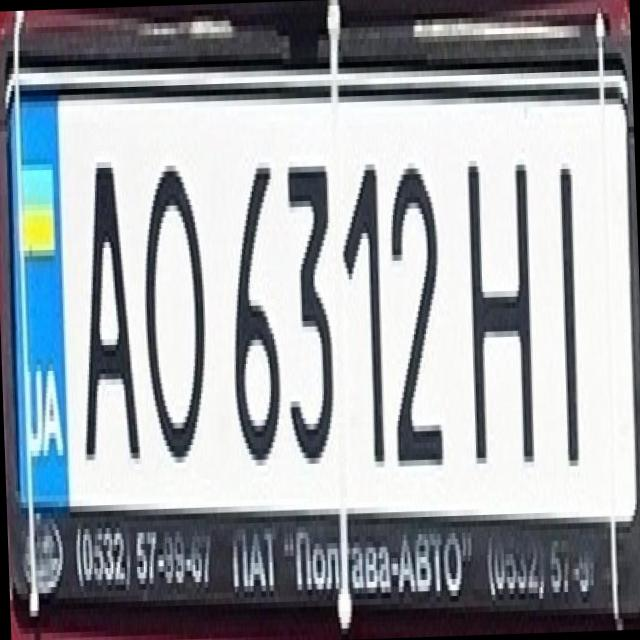0: (127, 146, 212, 464)
1: (332, 146, 392, 462)
2: (383, 144, 456, 460)
3: (274, 148, 338, 459)
6: (210, 138, 288, 466)
A: (69, 149, 143, 466)
H: (451, 135, 541, 464)
L: (532, 145, 592, 467)
